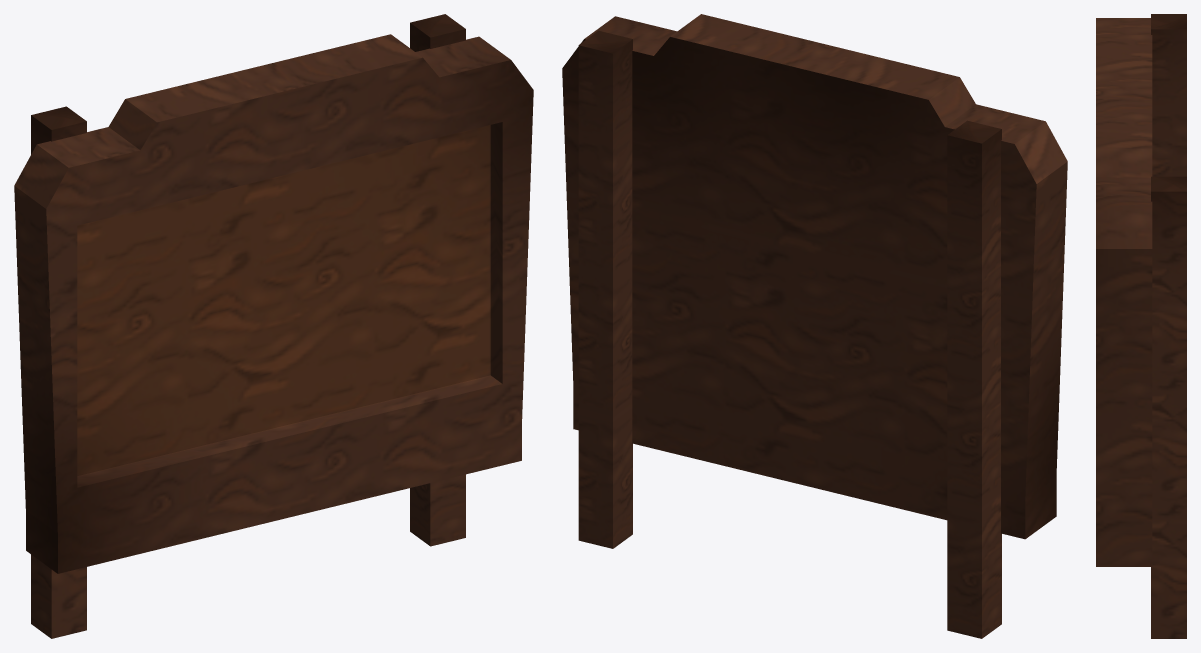
The model's file is Mural.glb.
3 renders of one model, left to right at view 1: azimuth 30°, elevation 25°; view 2: azimuth 150°, elevation 25°; view 3: azimuth 270°, elevation 25°, orthographic. The views are drawn at different scales.
Parts seen in each view (by area): view 1: Mural; view 2: Mural; view 3: Mural.
Boxes of the visible parts, bbox=[...] form: Mural: bbox=[14, 14, 533, 638]; Mural: bbox=[562, 14, 1067, 638]; Mural: bbox=[1096, 14, 1186, 638].
Bounding box in the file's own units: 1.76 × 1.8 × 0.3233.
1 material, 1 textured.
